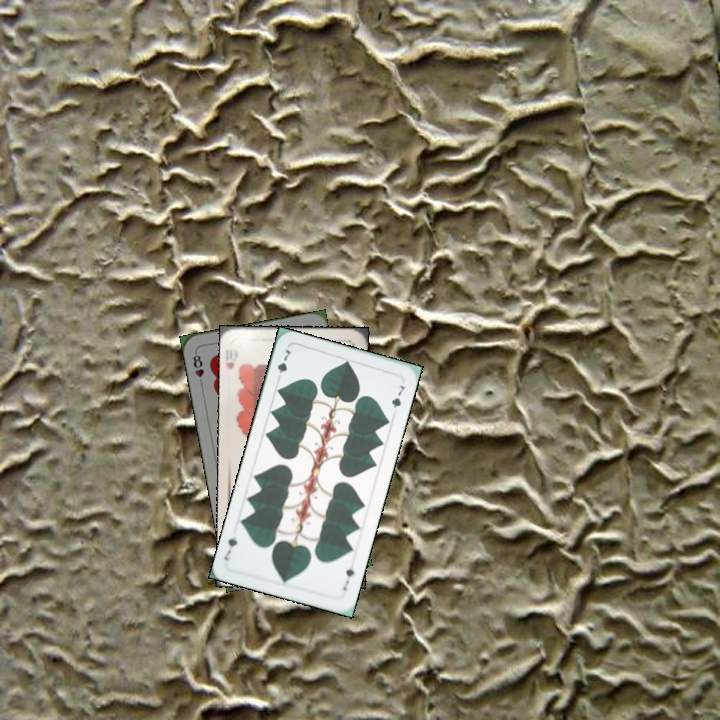G7: (273, 345, 295, 384), (339, 558, 357, 593)
H10: (222, 343, 240, 372)
H8: (189, 348, 207, 388)
